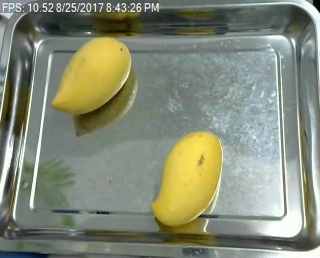Mango: (149, 129, 226, 228), (47, 34, 135, 119)
